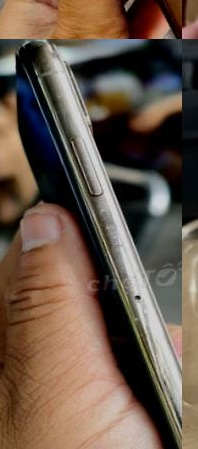scratch: (80, 192, 149, 315), (122, 308, 155, 334), (47, 81, 72, 115), (13, 39, 55, 58), (39, 165, 56, 187)
